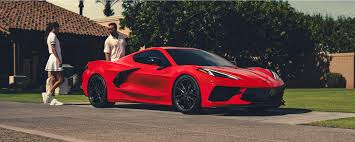car: (80, 47, 290, 112)
